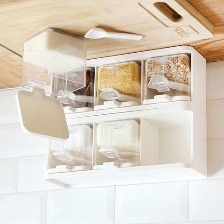plastic_box: (37, 39, 212, 196), (8, 22, 92, 144)
